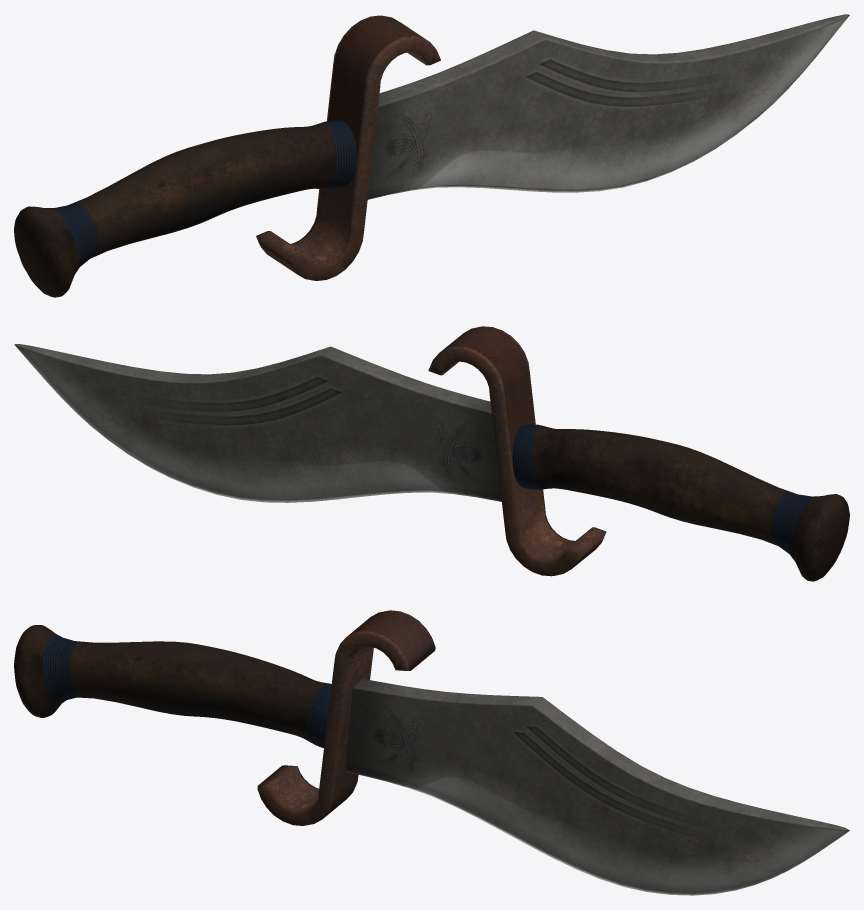
The model's file is PWDagg.fbx.
3 renders of one model, top to bottom at view 1: azimuth 30°, elevation 25°; view 2: azimuth 150°, elevation 25°; view 3: azimuth 330°, elevation 25°, orthographic. The views are drawn at different scales.
Parts seen in each view (by area): view 1: PWDagg.Shape; view 2: PWDagg.Shape; view 3: PWDagg.Shape.
Boxes of the visible parts, box(x1,y1,x2,y2) form: PWDagg.Shape: box(14, 14, 849, 297); PWDagg.Shape: box(14, 326, 849, 581); PWDagg.Shape: box(14, 610, 849, 895).
Bounding box in the file's own units: 35.53 × 9.02 × 3.49.
